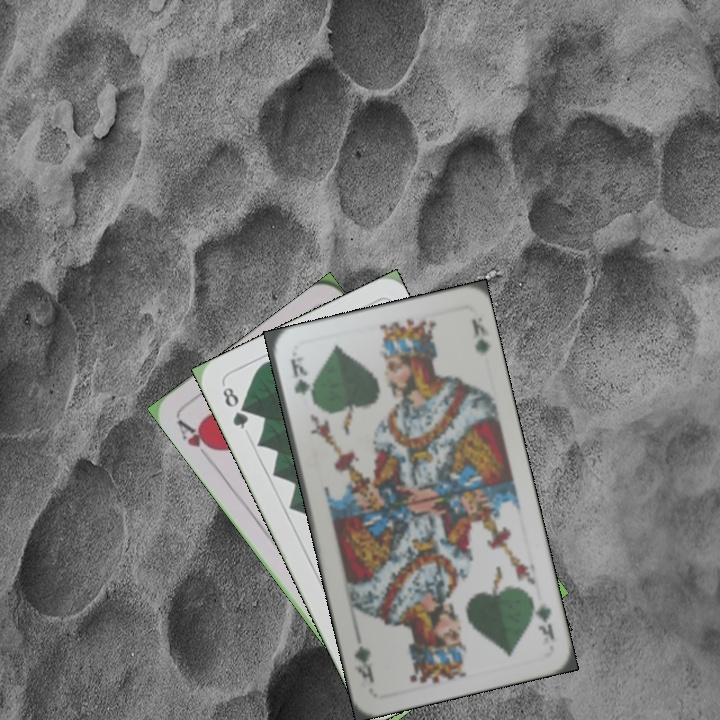G8: (218, 383, 251, 432)
GK: (525, 592, 557, 643), (286, 354, 312, 398)
HA: (173, 415, 221, 466)
